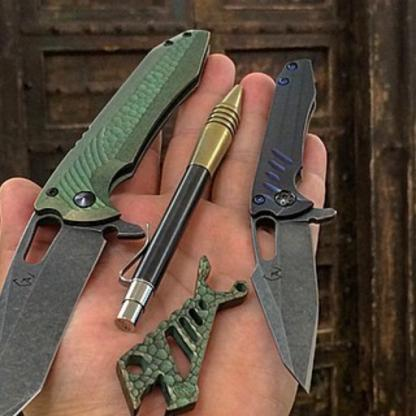knife: (0, 23, 216, 415), (239, 54, 345, 403)
